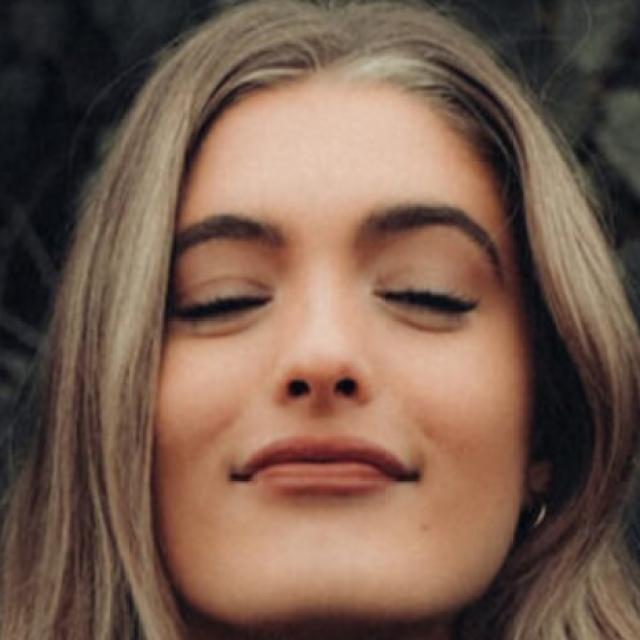close: (349, 187, 519, 363), (152, 198, 302, 367)
